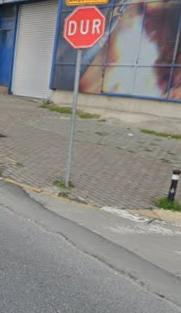stop: (62, 7, 106, 48)
